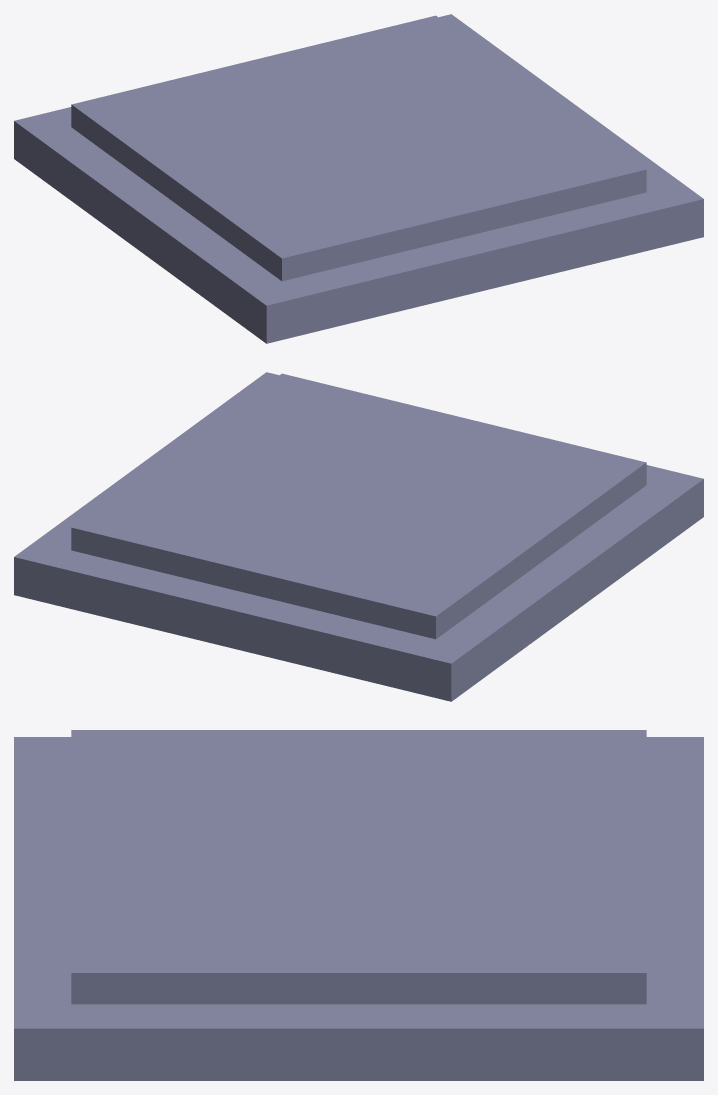
File: plinth.glb
The picture shows the model from 3 angles, top to bottom: view 1: azimuth 30°, elevation 25°; view 2: azimuth 150°, elevation 25°; view 3: azimuth 270°, elevation 25°; orthographic projection. The views are drawn at different scales.
Visible parts, largest first — view 1: High, Low; view 2: High, Low; view 3: High, Low.
Boxes of the visible parts, x1=… form: High: x1=71, y1=15, x2=646, y2=281; Low: x1=14, y1=14, x2=703, y2=343; High: x1=71, y1=373, x2=646, y2=639; Low: x1=14, y1=372, x2=703, y2=701; High: x1=71, y1=730, x2=646, y2=1004; Low: x1=14, y1=737, x2=703, y2=1080.
Bounding box in the file's own units: 3 × 0.4 × 3.
